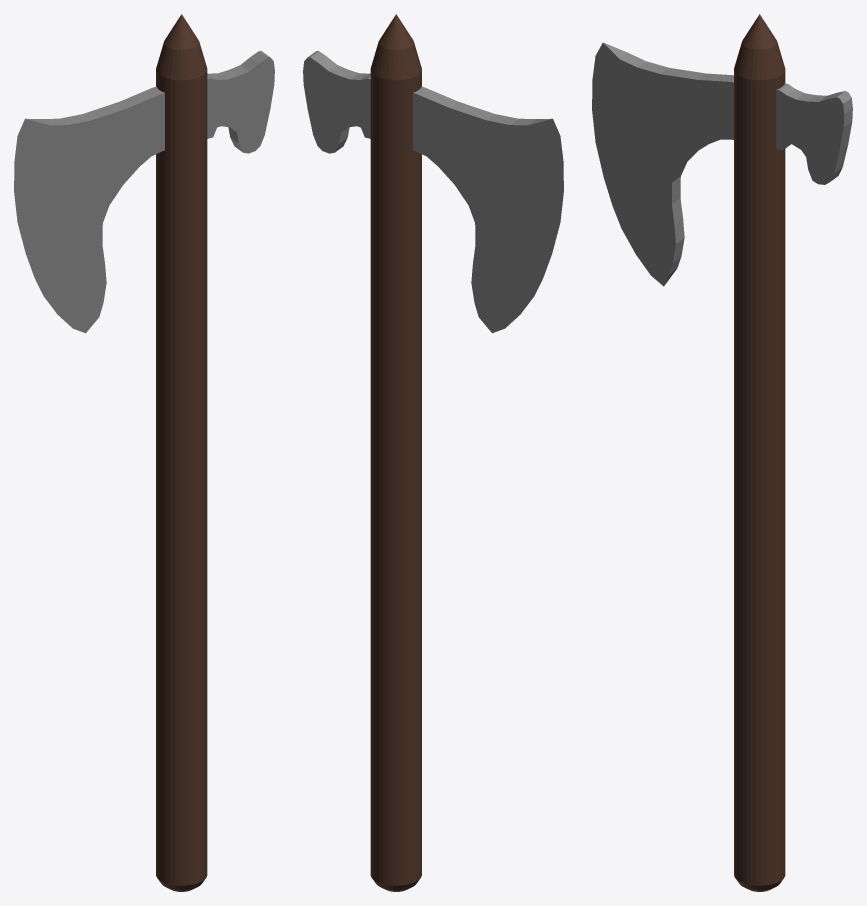
Rendered from SP_Viking Axe.fbx.
3 renders of one model, left to right at view 1: azimuth 30°, elevation 25°; view 2: azimuth 150°, elevation 25°; view 3: azimuth 330°, elevation 25°, orthographic.
Visible parts, largest first — view 1: Cylinder, Plane; view 2: Cylinder, Plane; view 3: Cylinder, Plane.
Boxes of the visible parts, box(x1,y1,x2,y2) form: Cylinder: box(156, 14, 207, 891); Plane: box(14, 51, 274, 333); Cylinder: box(370, 14, 421, 891); Plane: box(303, 51, 563, 333); Cylinder: box(734, 14, 785, 891); Plane: box(592, 42, 852, 286).
Size of the model in its own units: 34.05 by 111 by 5.91.
